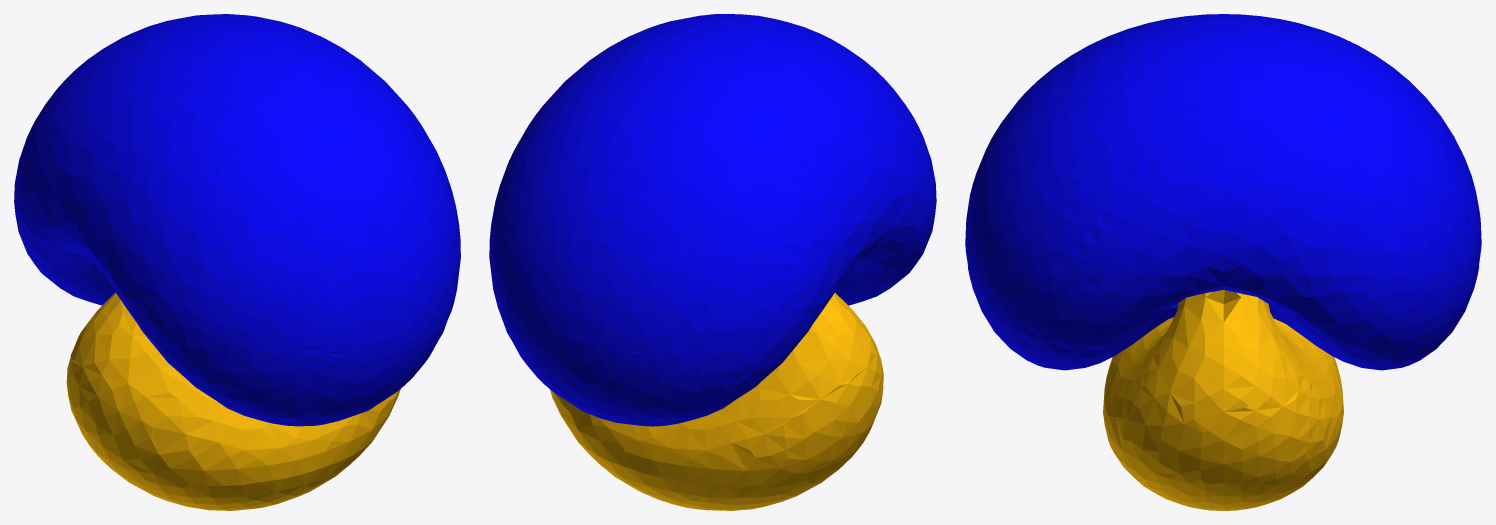
The picture shows the model from 3 angles, left to right: view 1: azimuth 30°, elevation 25°; view 2: azimuth 150°, elevation 25°; view 3: azimuth 270°, elevation 25°; orthographic projection.
Bounding box in the file's own units: 17.54 × 23.21 × 23.7.
